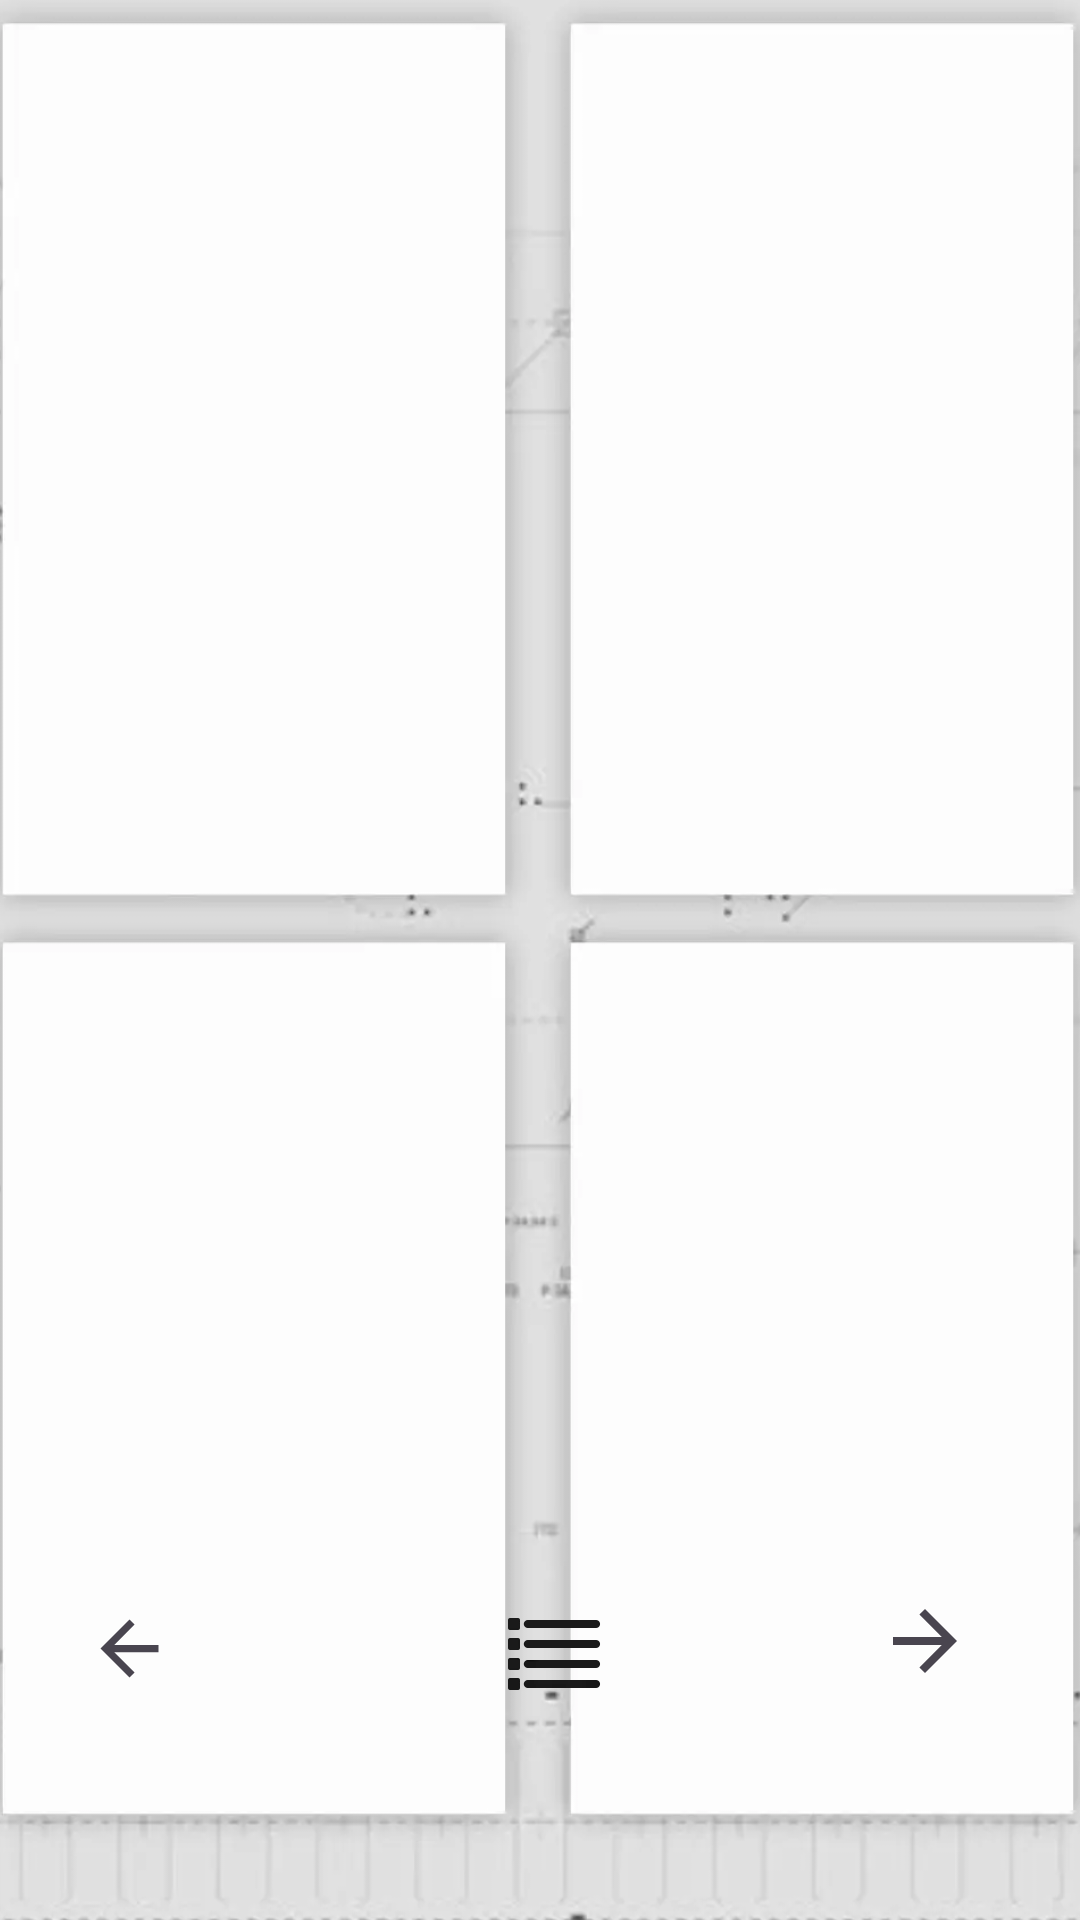

Where icons sit on this 1080px x 1920px app screen, as (x1, y1, x2, y2):
list: (505, 1604, 600, 1704)
